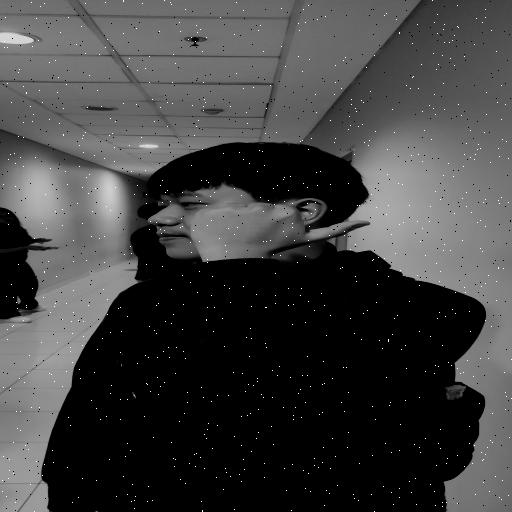back: (142, 192, 390, 275)
